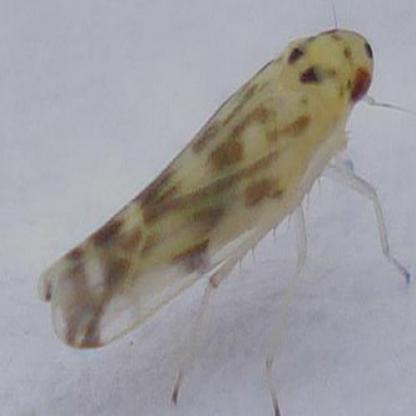green-leafhopper: (33, 26, 413, 414)
